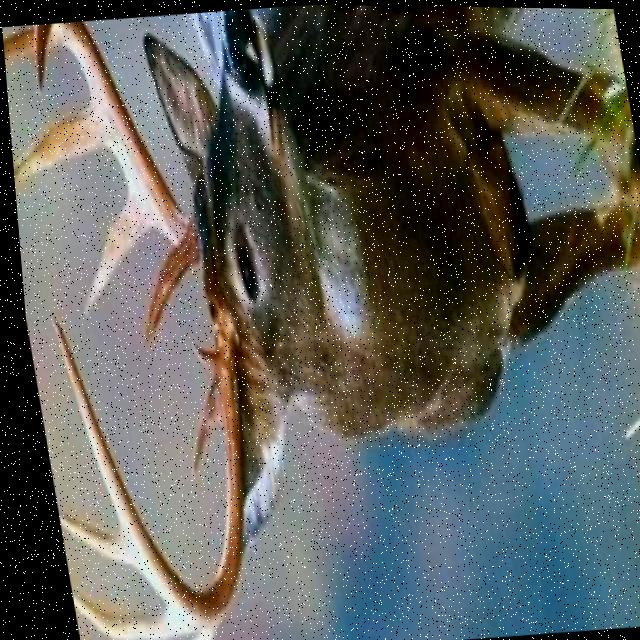L-G1: (135, 247, 194, 352)
L-G2: (77, 187, 152, 319)
L-G3: (10, 99, 110, 194)
R-F: (43, 298, 235, 626)
R-G1: (184, 339, 215, 370)
R-G2: (182, 375, 214, 477)
R-G3: (178, 629, 206, 640)
R-G4: (60, 586, 187, 640)
R-G5: (48, 509, 134, 578)
